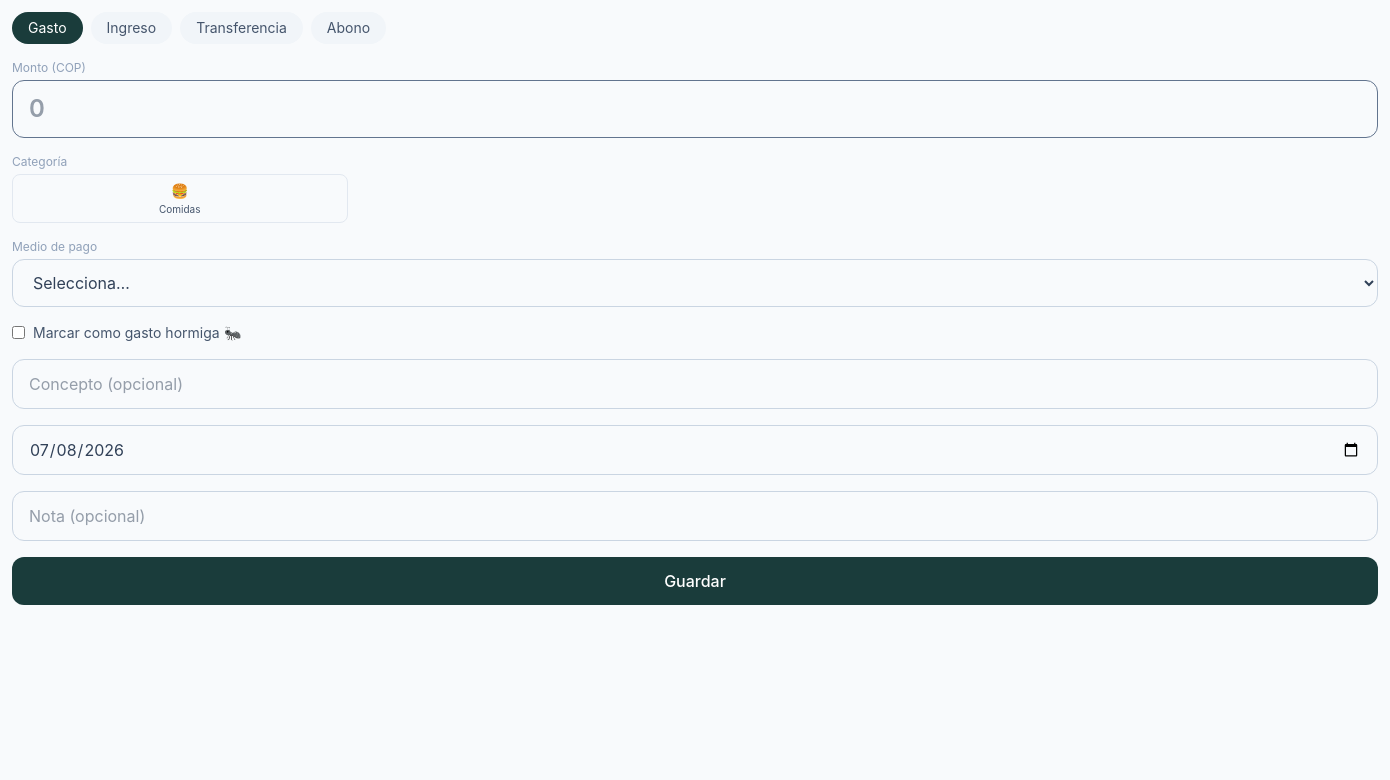
Test: TransactionForm › si el guardado falla, muestra el error y no cierra el form
Type "10000" into the field with placeholder "0". click: (695, 109)
box: [12, 80, 1378, 138]
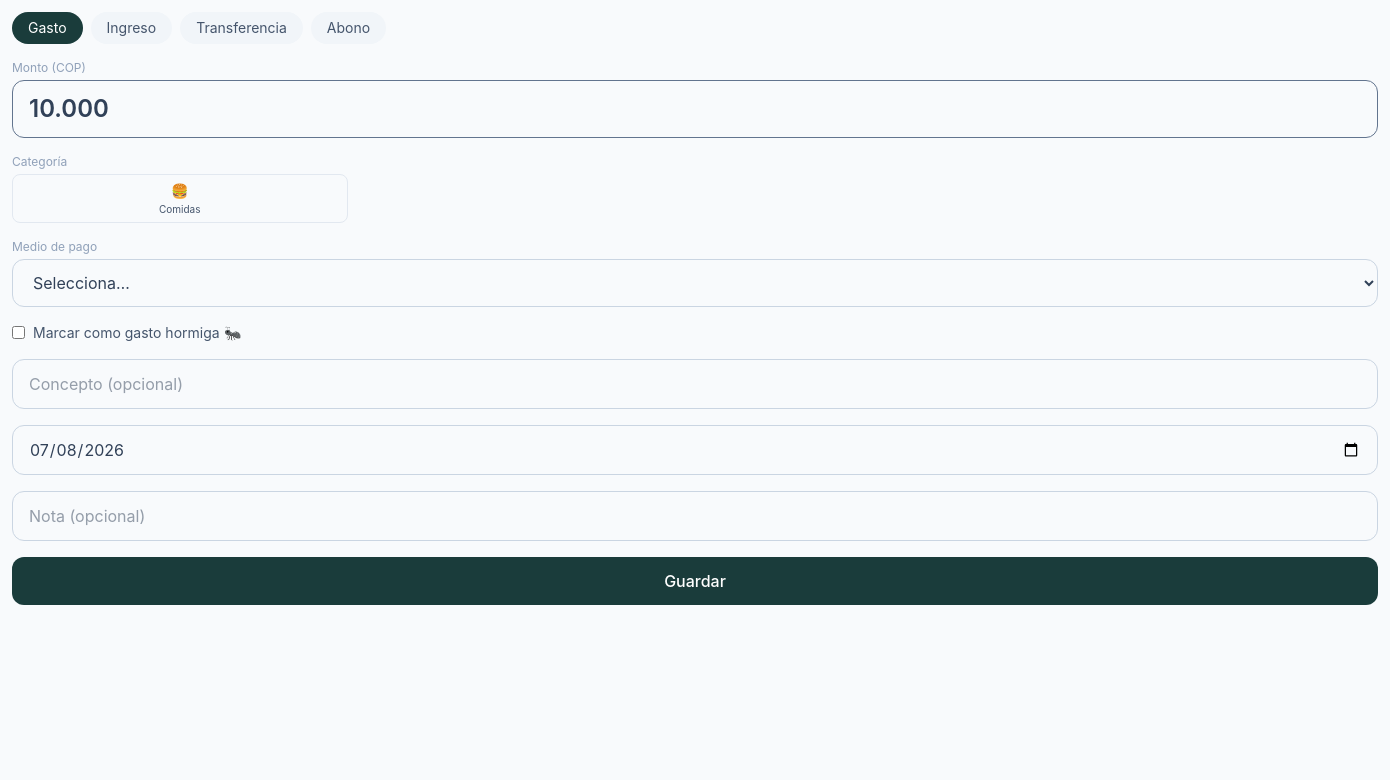
Click the button "🍔 Comidas". click: (180, 198)
box: [12, 174, 348, 222]
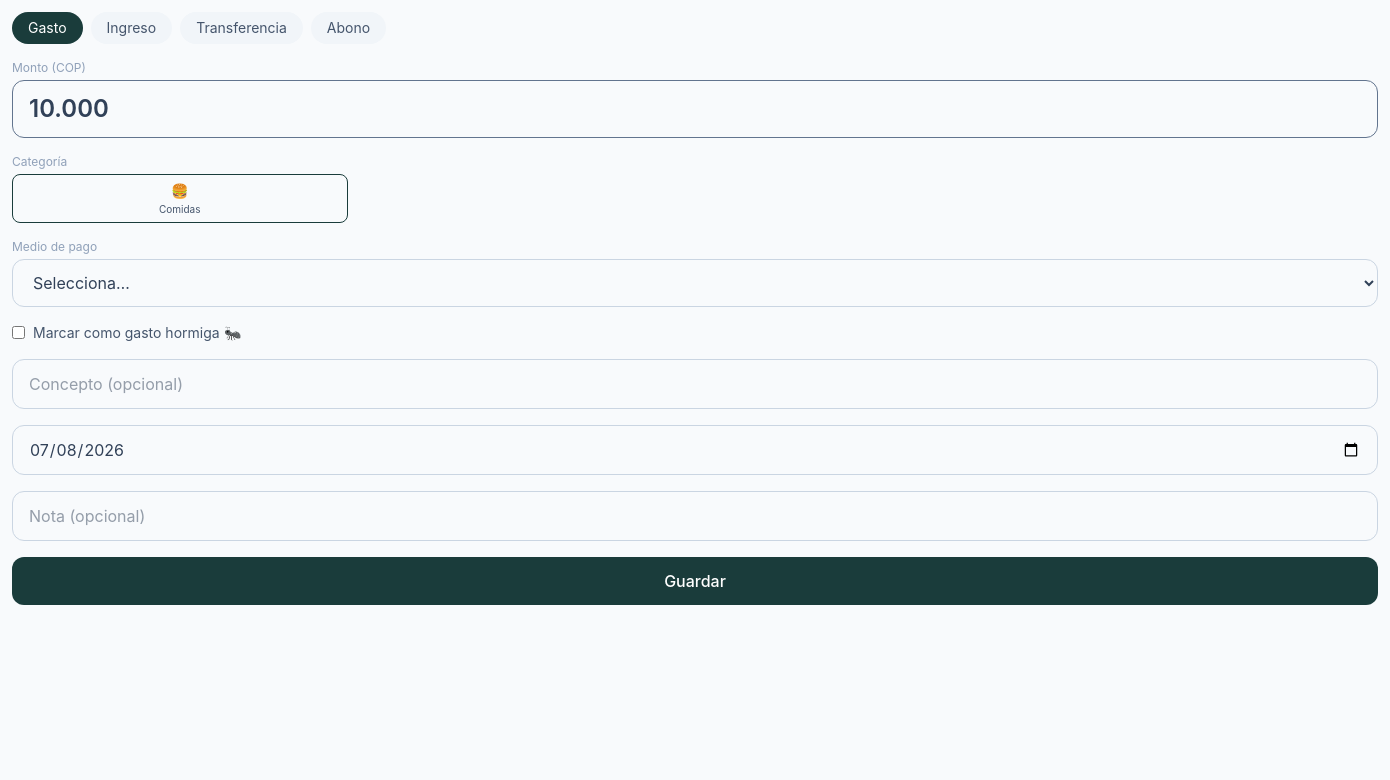
Select "Bancolombia" in the dropdown. click: (695, 282)
box: [12, 258, 1378, 306]
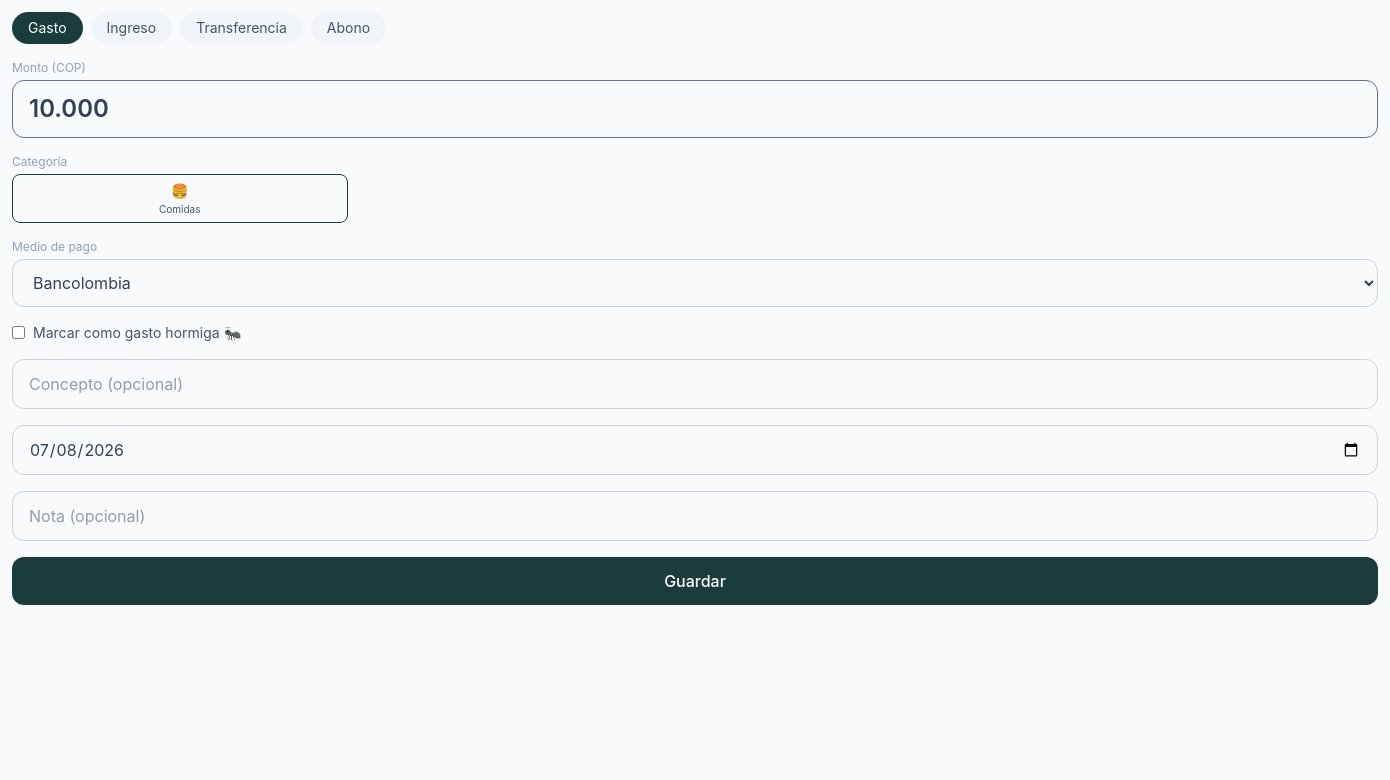
Click the button "Guardar". click: (695, 580)
box: [12, 556, 1378, 604]
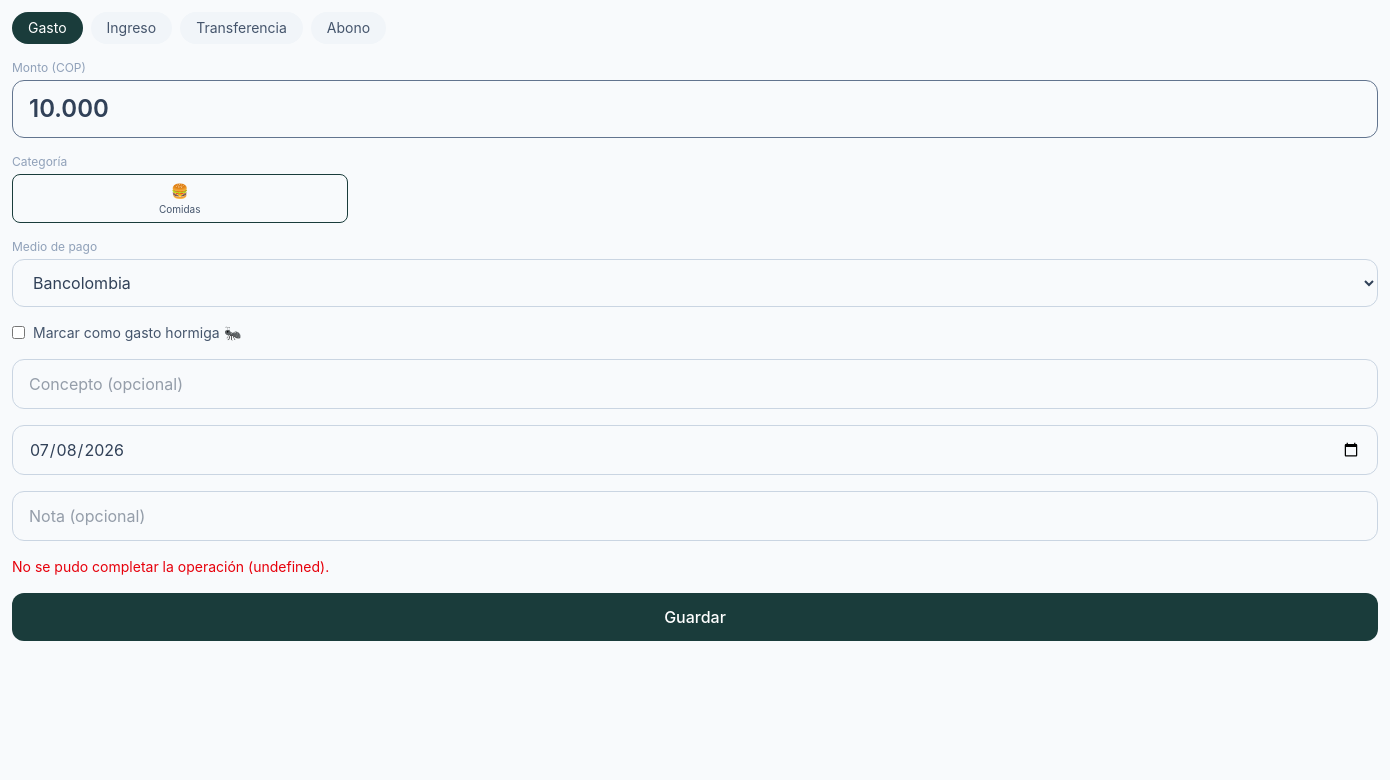
Expected: the message "No se pudo completar la operación (undefined)." is shown, [12, 558, 329, 574]
